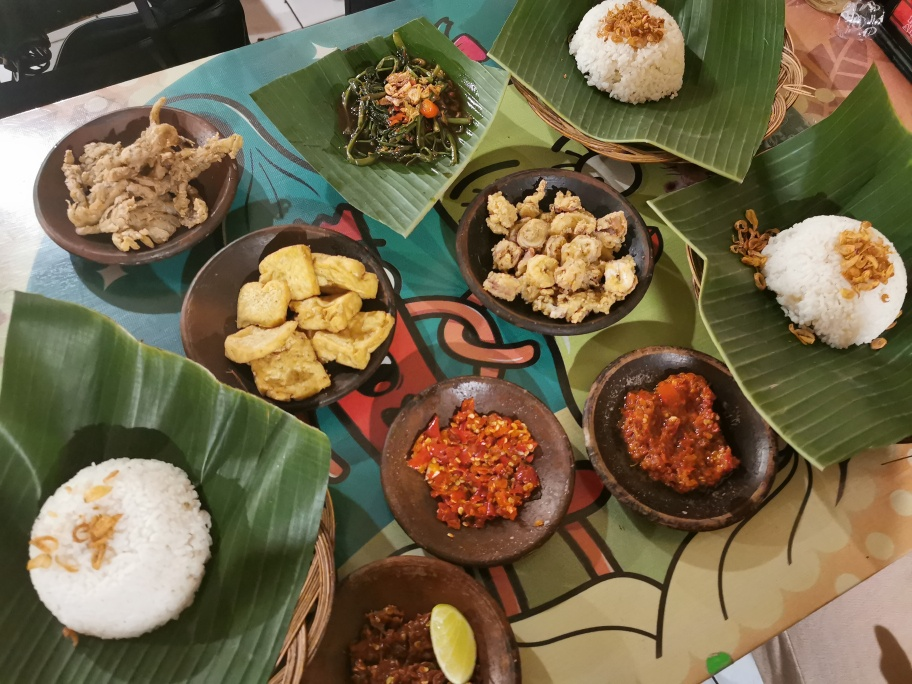nasi putih: (27, 454, 215, 644), (759, 211, 912, 350), (574, 1, 685, 103)
